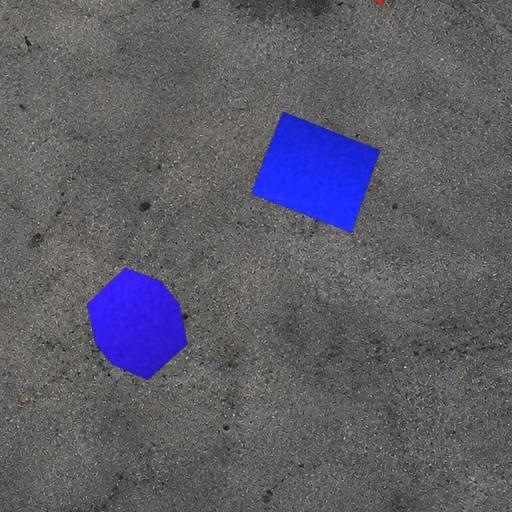BLUE_SQUARE: (250, 111, 382, 234)
